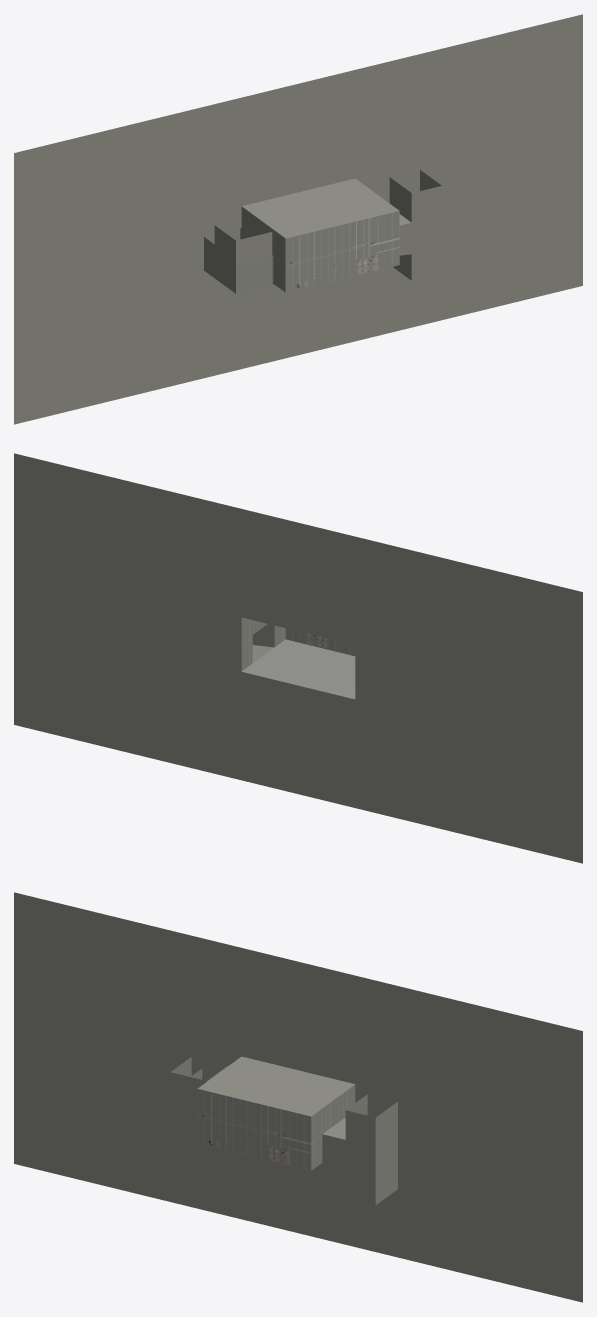
Rendered from WindTunnel.obj.
3 renders of one model, top to bottom at view 1: azimuth 30°, elevation 25°; view 2: azimuth 150°, elevation 25°; view 3: azimuth 330°, elevation 25°, orthographic.
Parts seen in each view (by area): view 1: Cube; view 2: Cube; view 3: Cube.
Boxes of the visible parts, x1=… form: Cube: x1=14, y1=14, x2=582, y2=424; Cube: x1=14, y1=453, x2=582, y2=863; Cube: x1=14, y1=892, x2=582, y2=1302.
Bounding box in the file's own units: 101 × 45.83 × 13.5.
